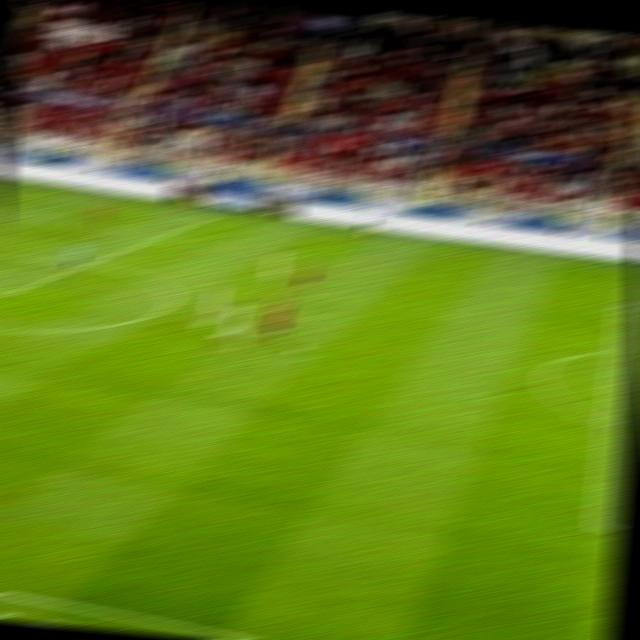bigarea_bottom_inner: (581, 511, 612, 536)
bigarea_top_inner: (608, 299, 633, 315)
bottom_arc_area_intersection: (593, 413, 621, 434)
halfcircle_top: (79, 253, 104, 271)
midline_top_intersection: (199, 208, 224, 221)
top_arc_area_intersection: (603, 341, 629, 358)
